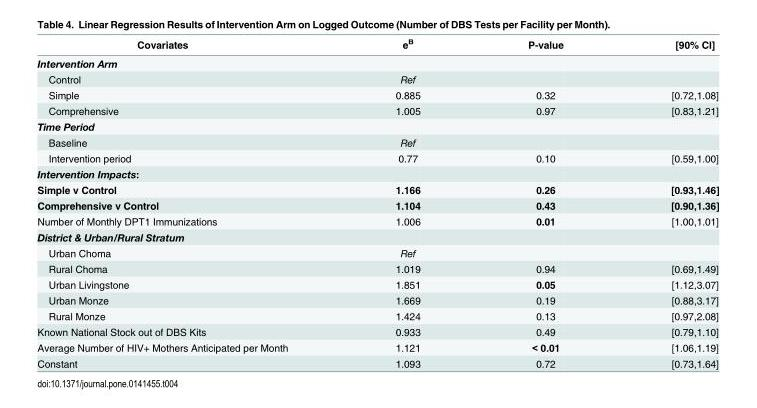table: (36, 36, 718, 368)
table column: (36, 36, 340, 368), (473, 36, 616, 368), (340, 36, 473, 368), (616, 36, 718, 368)
table column header: (36, 36, 718, 53)
table projected row header: (36, 53, 718, 71), (36, 118, 718, 134), (36, 165, 718, 181), (36, 228, 718, 244)
table row: (36, 53, 718, 71), (36, 36, 718, 53), (36, 71, 718, 87), (36, 102, 718, 118), (36, 118, 718, 134), (36, 134, 718, 150), (36, 165, 718, 181), (36, 181, 718, 197), (36, 212, 718, 228), (36, 228, 718, 244), (36, 244, 718, 260), (36, 260, 718, 276), (36, 276, 718, 292), (36, 307, 718, 323), (36, 323, 718, 339), (36, 339, 718, 355), (36, 87, 718, 102), (36, 150, 718, 165), (36, 197, 718, 212), (36, 292, 718, 307), (36, 355, 718, 368)
